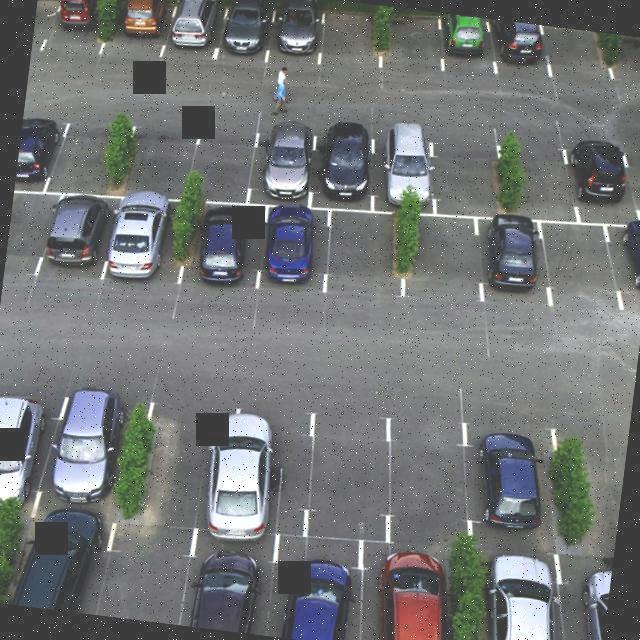space-empty: (304, 415, 397, 545), (85, 516, 192, 625), (384, 417, 469, 545), (559, 425, 629, 561), (312, 206, 407, 304), (401, 210, 485, 314), (491, 134, 578, 224), (423, 134, 506, 223), (113, 120, 198, 204), (533, 223, 612, 311), (52, 112, 127, 195), (186, 124, 256, 208), (537, 26, 609, 93), (378, 8, 447, 75), (317, 7, 382, 76), (4, 191, 50, 277), (593, 32, 640, 92), (30, 0, 60, 57), (633, 147, 640, 232)
space-occupied: (143, 397, 245, 534), (345, 532, 470, 640), (259, 528, 373, 640), (455, 425, 557, 549), (43, 388, 138, 516), (223, 409, 316, 531), (184, 527, 282, 637), (461, 549, 570, 640), (0, 520, 103, 614), (105, 192, 194, 294), (182, 199, 268, 298), (0, 384, 57, 520), (253, 205, 333, 301), (362, 121, 435, 221), (303, 123, 381, 211), (39, 186, 110, 280), (566, 134, 640, 224), (244, 120, 315, 207), (477, 213, 541, 308), (260, 0, 328, 74), (556, 553, 613, 640), (482, 19, 554, 78), (437, 13, 496, 81), (163, 0, 224, 65), (103, 0, 171, 58), (215, 0, 273, 67), (47, 0, 113, 57), (14, 114, 61, 194), (605, 224, 640, 315)
